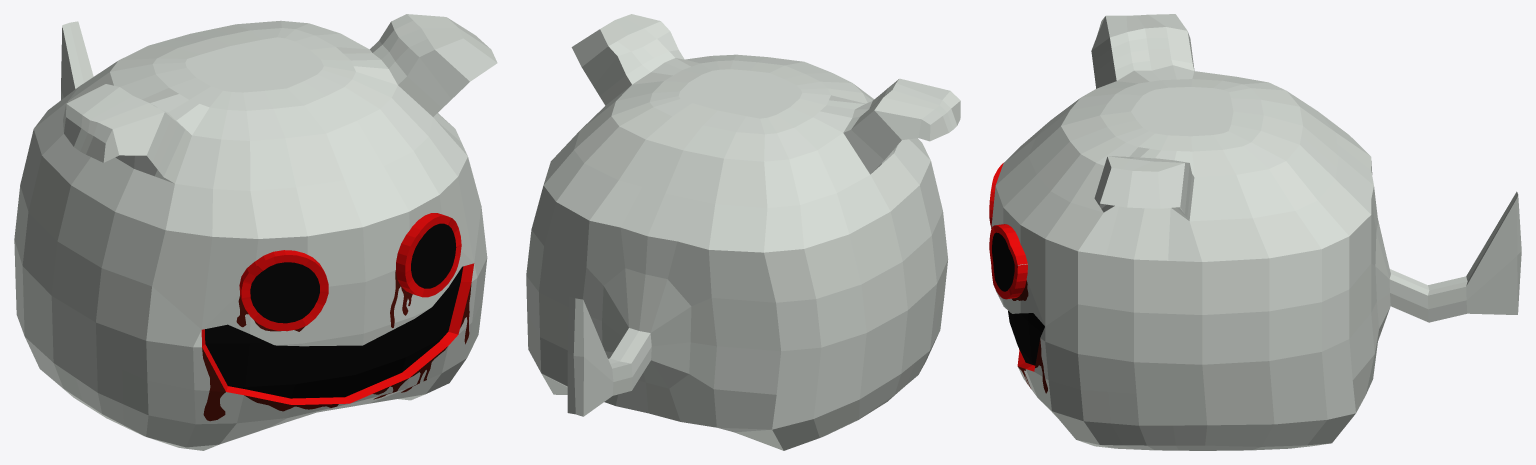
File: JAM2_EnemyNewFloat.fbx
3 renders of one model, left to right at view 1: azimuth 30°, elevation 25°; view 2: azimuth 150°, elevation 25°; view 3: azimuth 270°, elevation 25°, orthographic. The views are drawn at different scales.
Parts seen in each view (by area): view 1: Enemy; view 2: Enemy; view 3: Enemy.
Part boxes in pixels (x1,y1,x2,y2): Enemy: [14, 14, 497, 450]; Enemy: [526, 14, 960, 450]; Enemy: [989, 14, 1521, 450].
Bounding box in the file's own units: 197 × 158 × 248.
